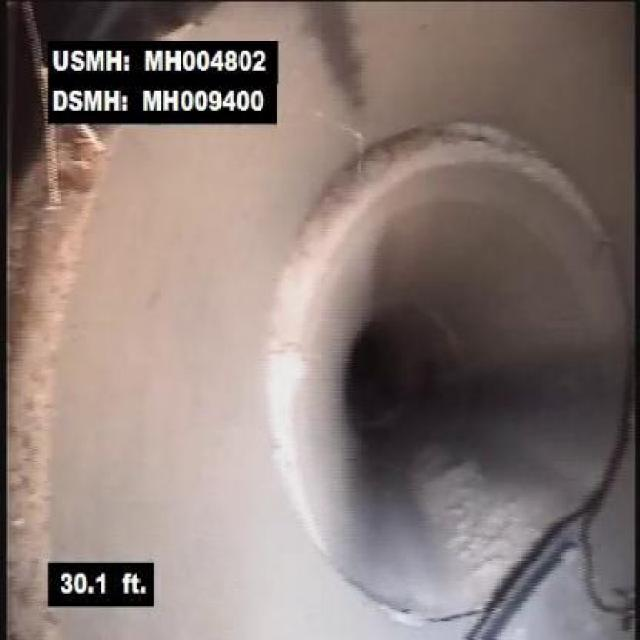Joint offset: (10, 128, 121, 552), (286, 125, 420, 289), (426, 125, 605, 232), (255, 294, 320, 548)
